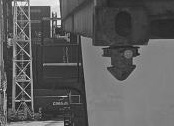twist_lock_2: (95, 39, 148, 90)
